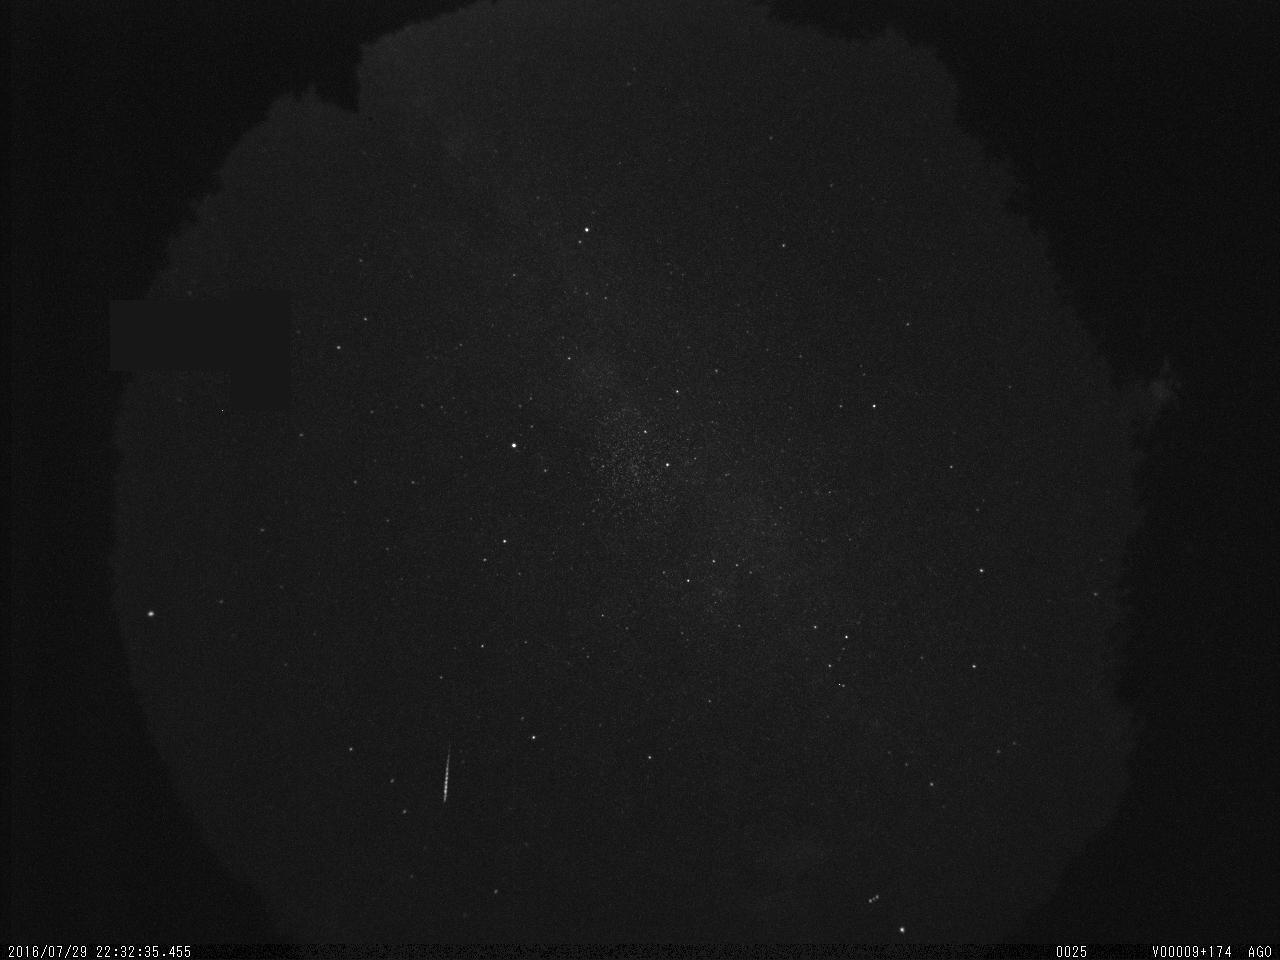meteor: (399, 729, 501, 822)
